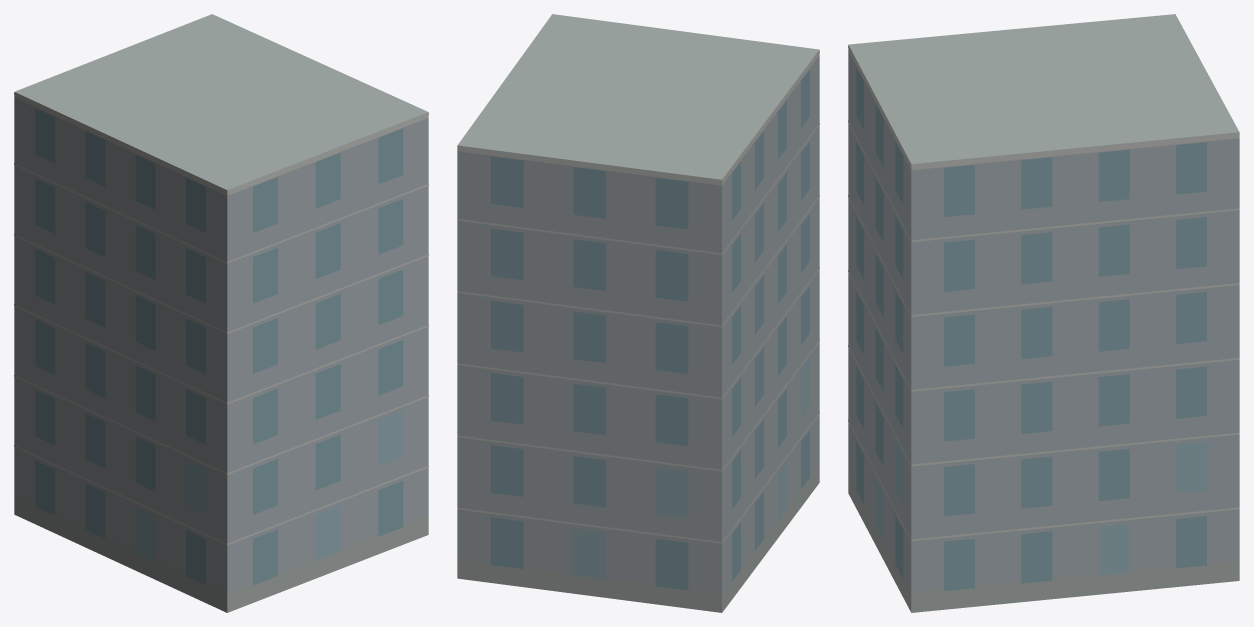
Rendered from survey-upis-32826072.glb.
3 renders of one model, left to right at view 1: azimuth 30°, elevation 25°; view 2: azimuth 150°, elevation 25°; view 3: azimuth 270°, elevation 25°, orthographic. The views are drawn at different scales.
Visible parts, largest first — view 1: survey-upis-32826072.tmp; view 2: survey-upis-32826072.tmp; view 3: survey-upis-32826072.tmp.
Boxes of the visible parts, left/top/right/bottom form: survey-upis-32826072.tmp: left=14, top=14, right=428, bottom=612; survey-upis-32826072.tmp: left=457, top=14, right=819, bottom=612; survey-upis-32826072.tmp: left=848, top=14, right=1239, bottom=612.
Bounding box in the file's own units: 13.02 × 18.1 × 14.33.
